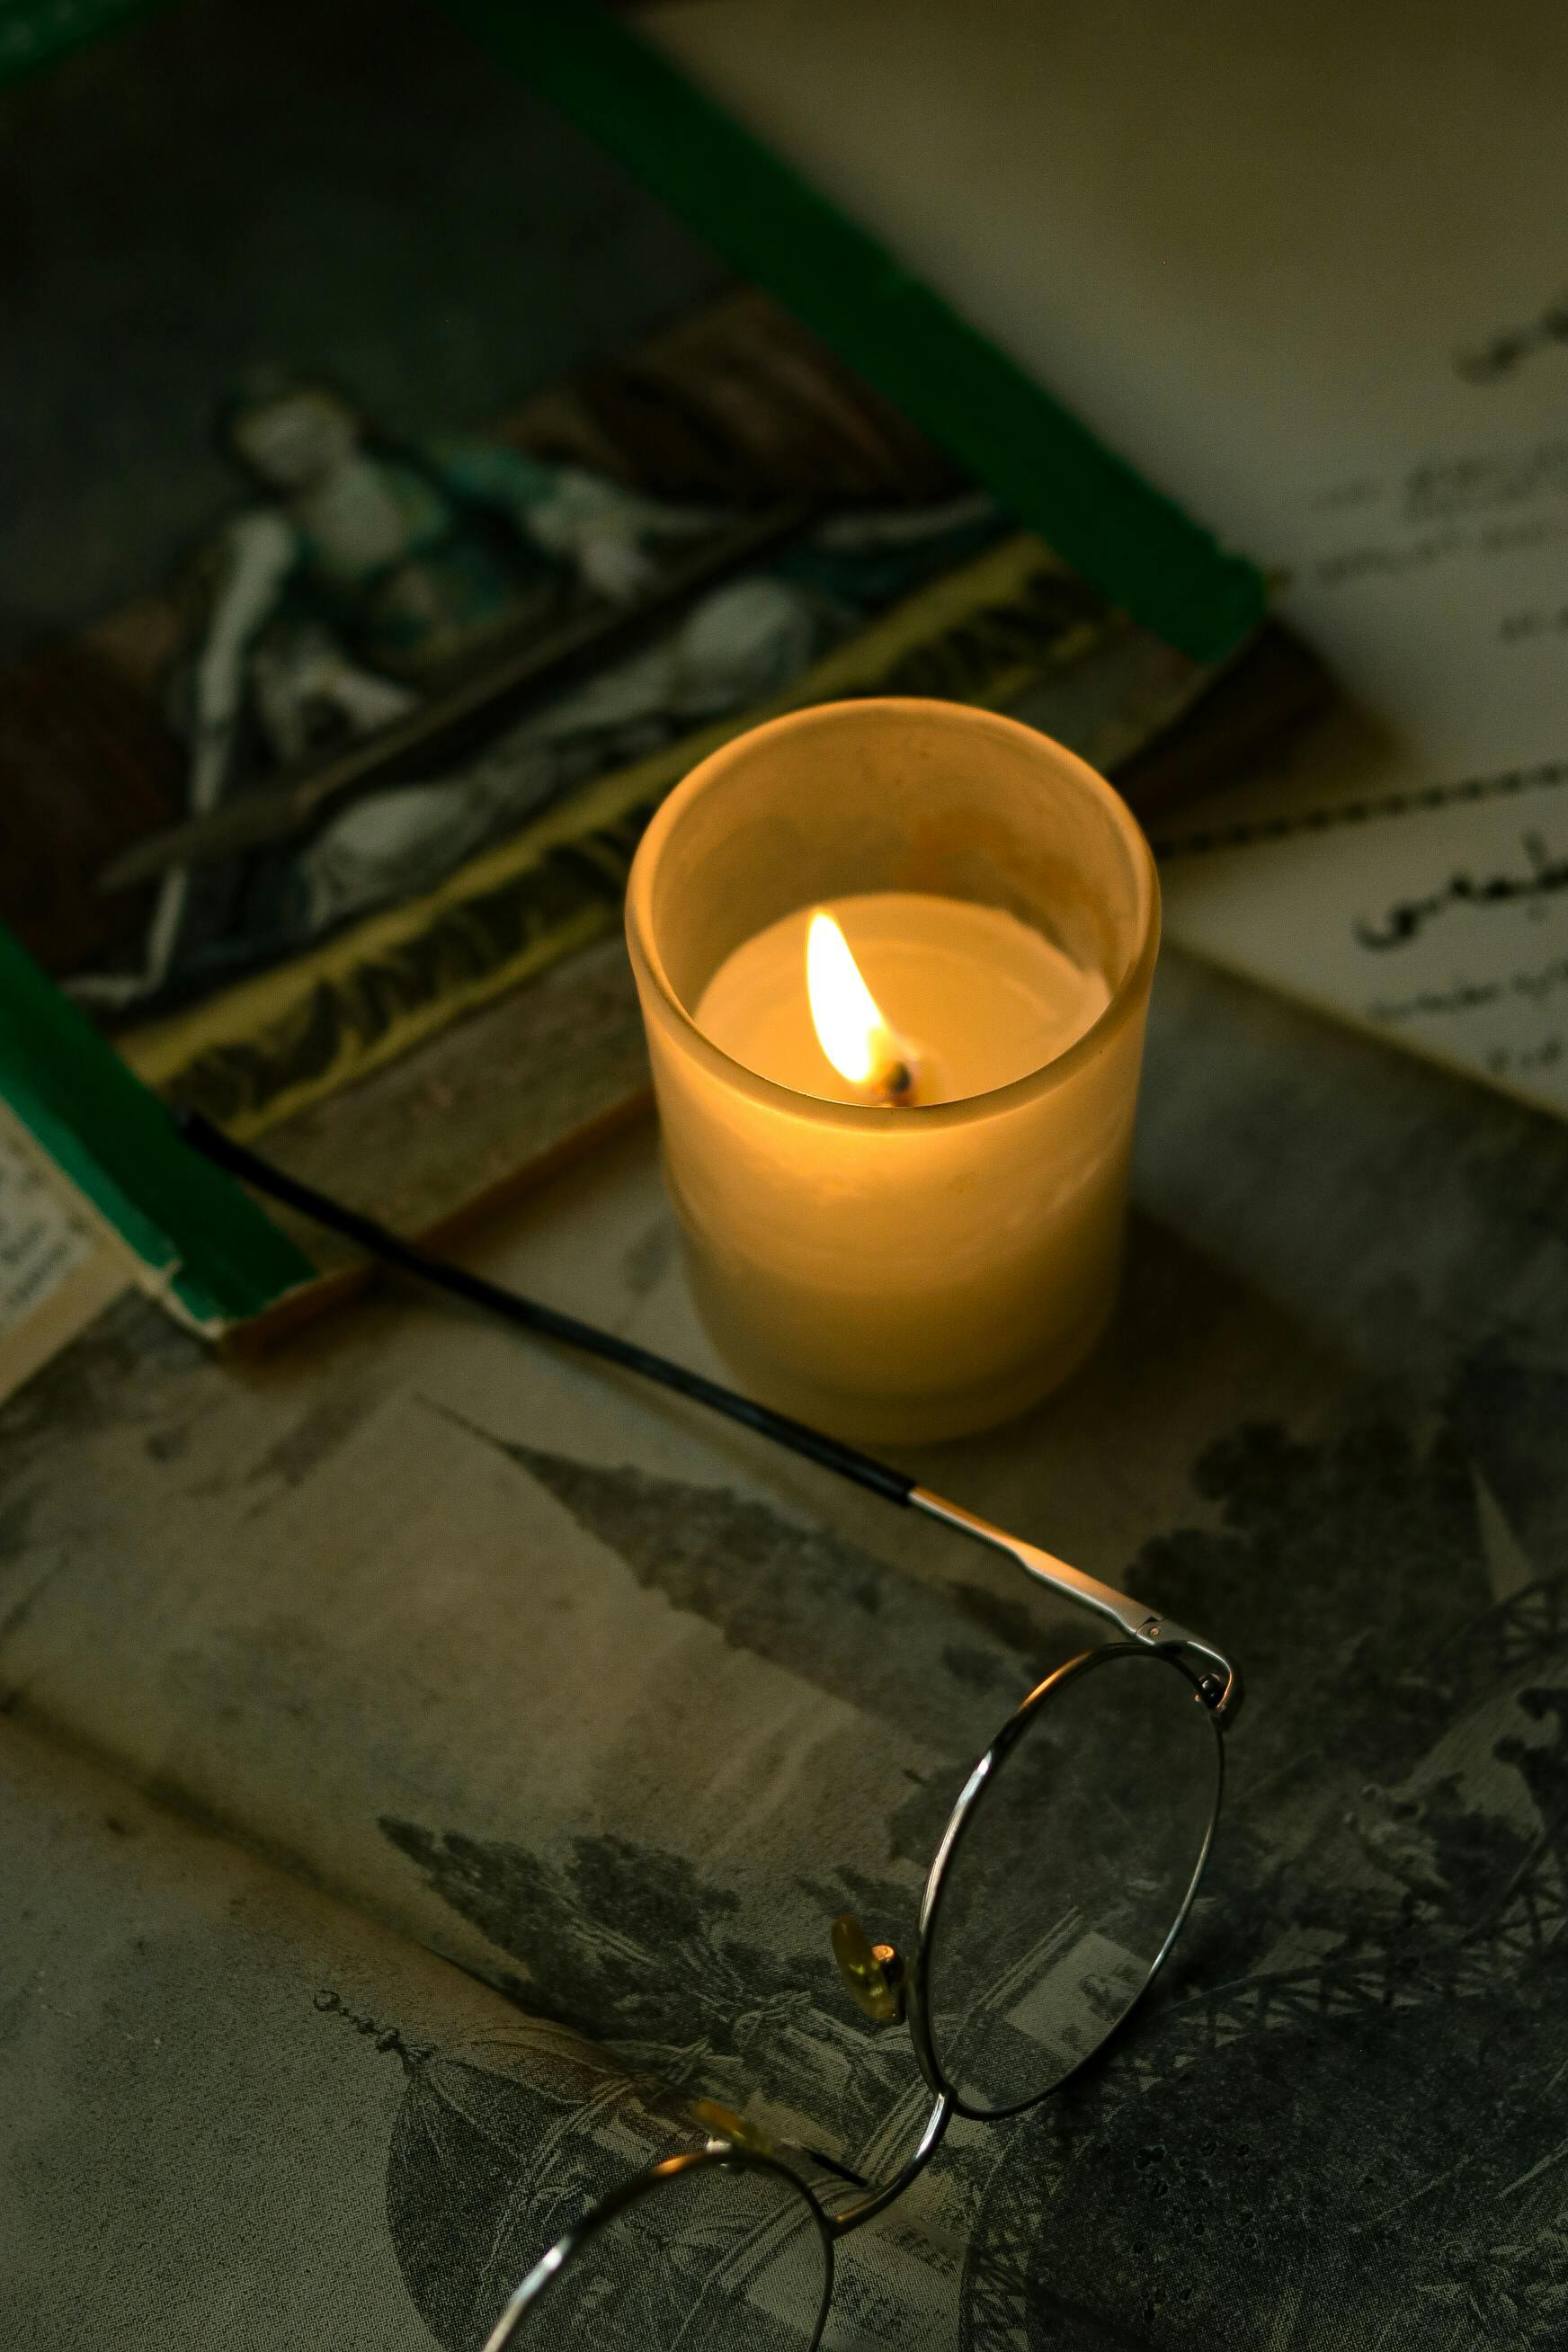Fire: (773, 873, 926, 1104)
